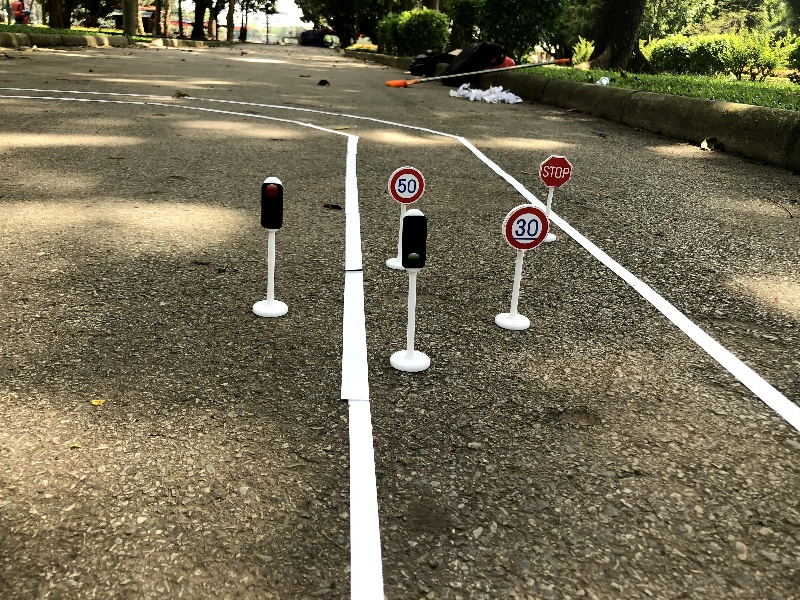Bien_bao_30: (493, 200, 553, 343)
Bien_bao_50: (388, 165, 426, 204)
Den_Do: (247, 173, 303, 324)
Den_Xanh: (387, 209, 436, 375)
Stop: (535, 152, 576, 187)
